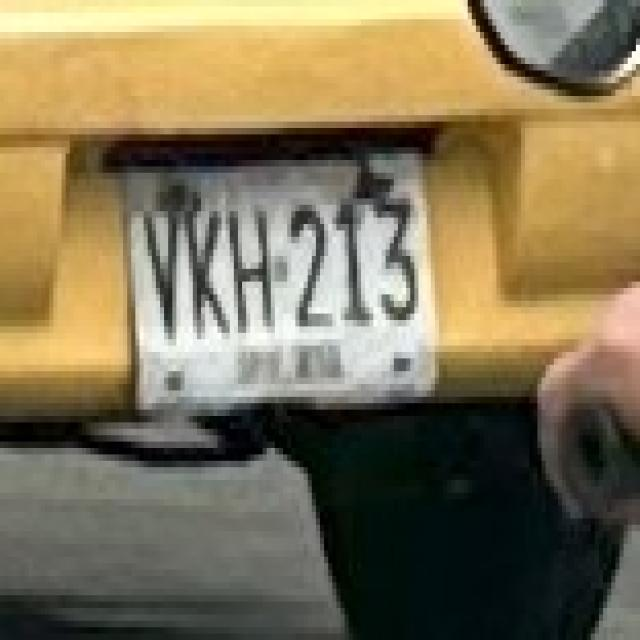number plate: (127, 141, 427, 397)
